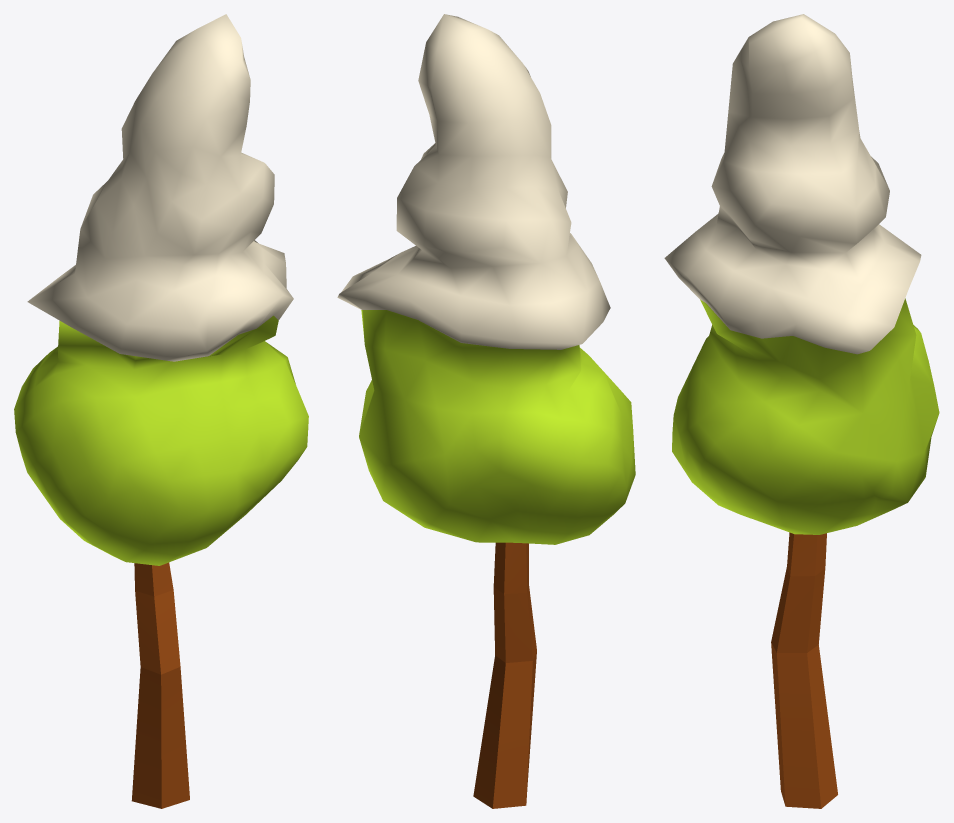
The model's file is Tree_21_Winter.fbx.
3 renders of one model, left to right at view 1: azimuth 30°, elevation 25°; view 2: azimuth 150°, elevation 25°; view 3: azimuth 270°, elevation 25°, orthographic. The views are drawn at different scales.
Parts seen in each view (by area): view 1: Tree_21_p2_Winter, Tree_21_p1_Winter; view 2: Tree_21_p2_Winter, Tree_21_p1_Winter; view 3: Tree_21_p2_Winter, Tree_21_p1_Winter.
Part boxes in pixels (<box>): Tree_21_p2_Winter: <box>14,14,308,565</box>; Tree_21_p1_Winter: <box>131,562,189,808</box>; Tree_21_p2_Winter: <box>337,14,635,544</box>; Tree_21_p1_Winter: <box>473,542,536,808</box>; Tree_21_p2_Winter: <box>664,14,939,534</box>; Tree_21_p1_Winter: <box>771,532,837,808</box>.
Bounding box in the file's own units: 215 × 603 × 185.
